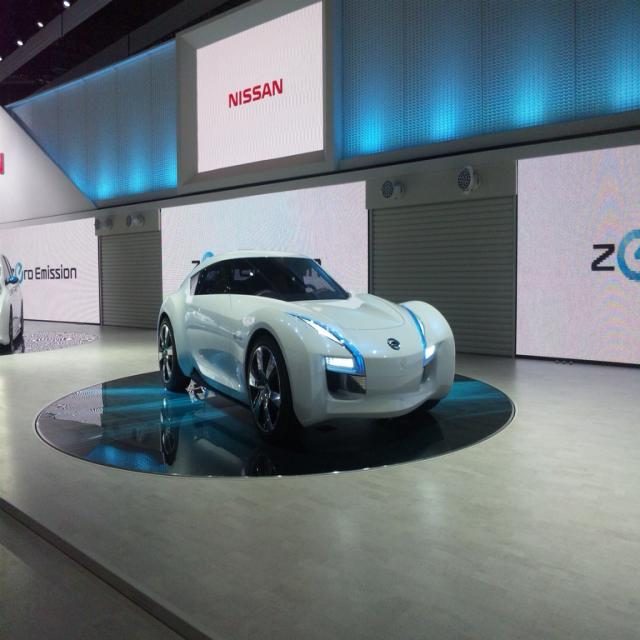car: (132, 235, 456, 451)
